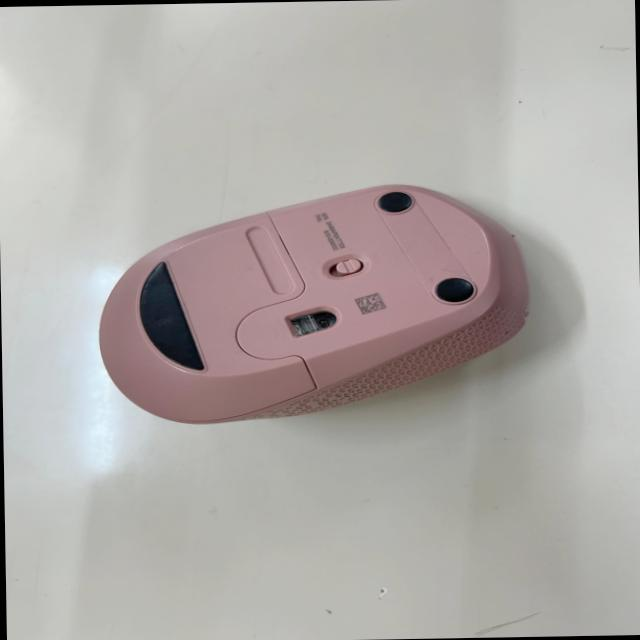inorganic: (95, 181, 527, 424)
